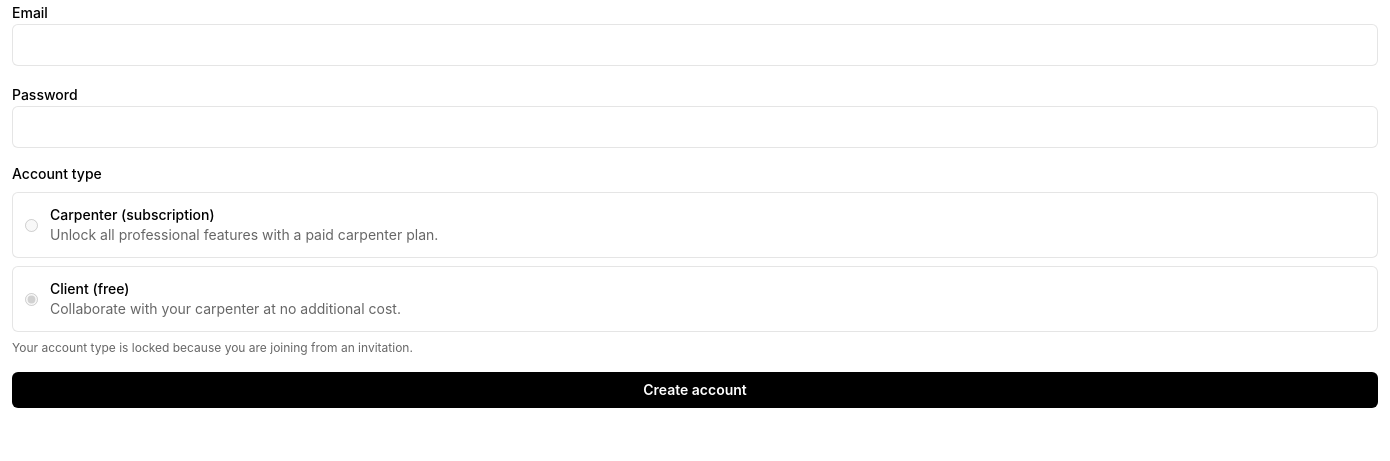
Scenario: SignUpForm › shows confirmation and skips restricted updates when no session is returned
In the field labelled "Email": (695, 45) top-left (12, 24), bottom-right (1378, 66), type "user@example.com"
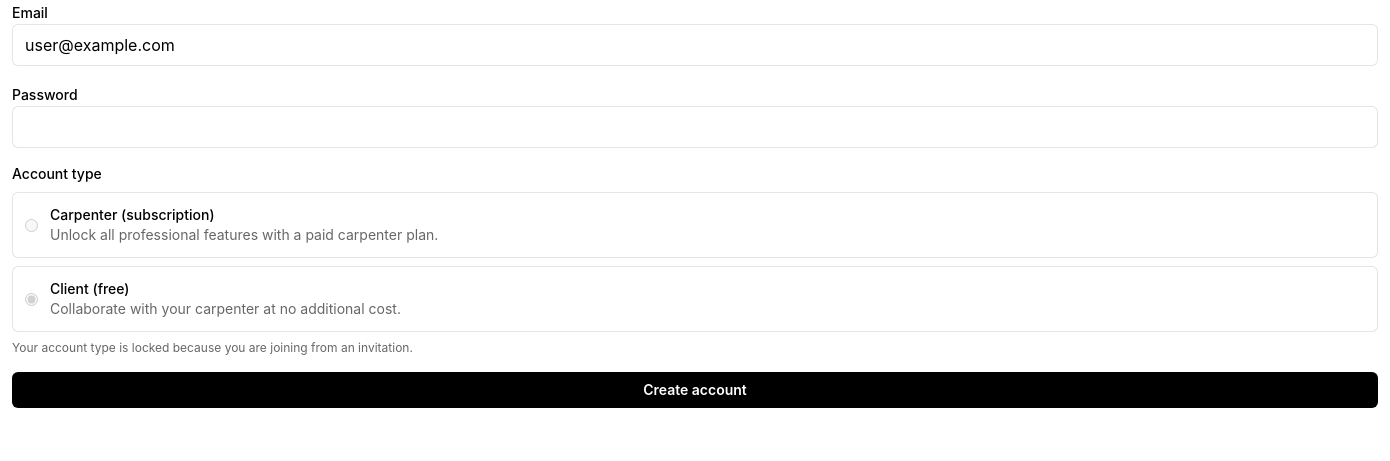
In the password field labelled "Password": (695, 127) top-left (12, 106), bottom-right (1378, 148), type "password123"
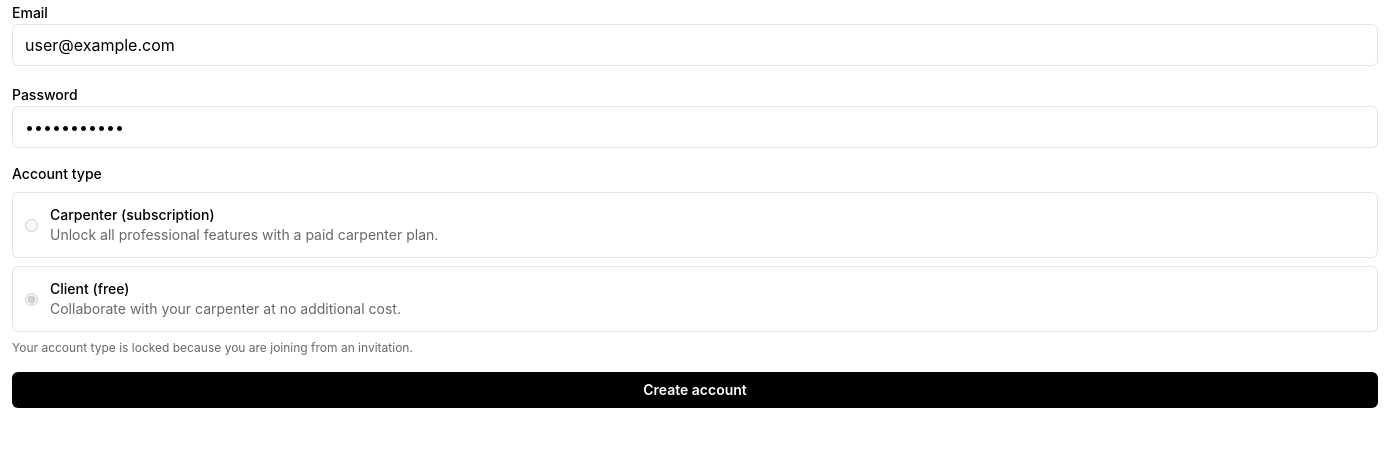
Click the button "Create account": (695, 390) top-left (12, 372), bottom-right (1378, 408)
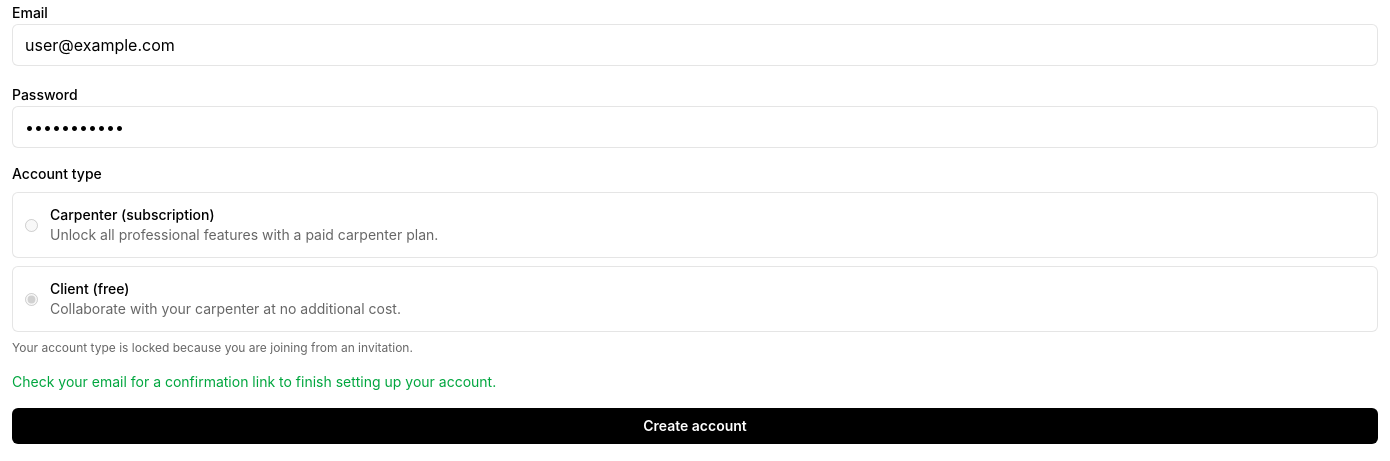
Result: the text "Check your email for a confirmation link to finish setting up your account." is shown at top-left (12, 373), bottom-right (496, 390)
